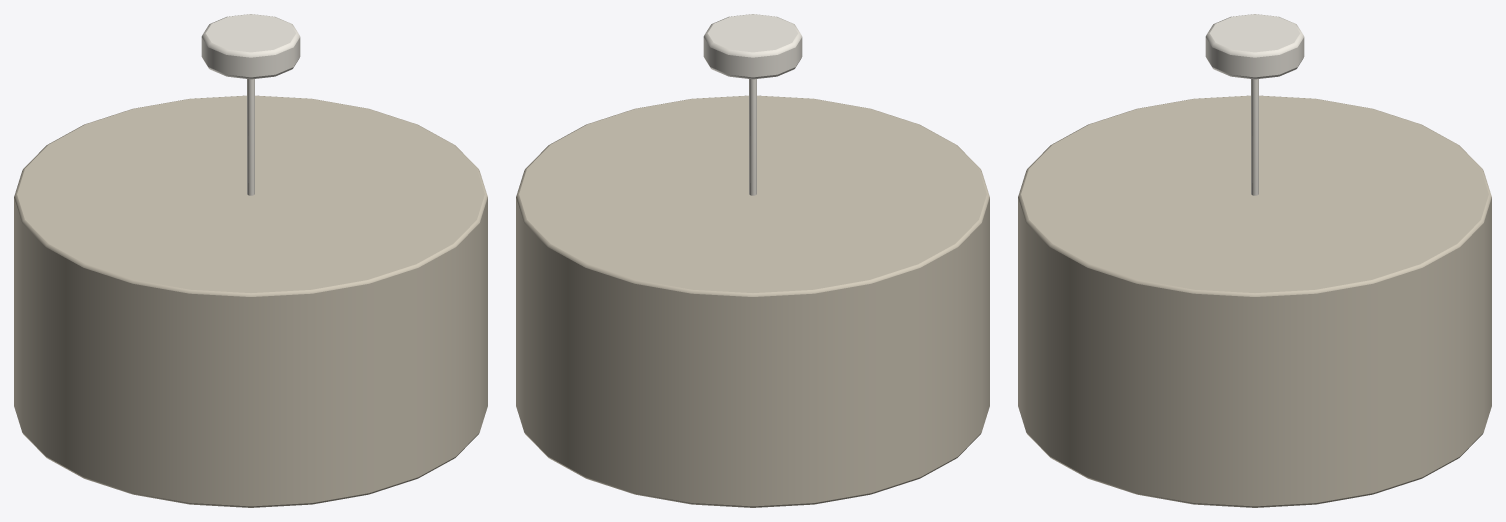
Rendered from lamp_living_lamp.fbx.
The picture shows the model from 3 angles, left to right: view 1: azimuth 30°, elevation 25°; view 2: azimuth 150°, elevation 25°; view 3: azimuth 270°, elevation 25°; orthographic projection.
Visible parts, largest first — view 1: lamp_living_lamp; view 2: lamp_living_lamp; view 3: lamp_living_lamp.
Part boxes in pixels (<box>): lamp_living_lamp: <box>14,14,487,507</box>; lamp_living_lamp: <box>516,14,989,507</box>; lamp_living_lamp: <box>1018,14,1491,507</box>.
Bounding box in the file's own units: 0.48 × 0.48 × 0.42.
